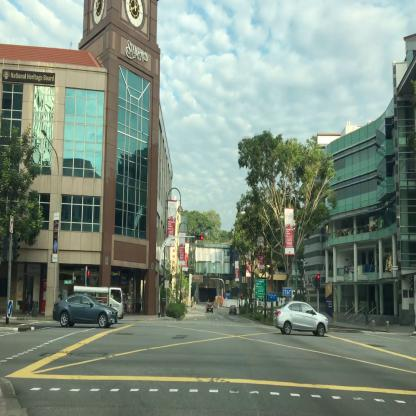red_traffic_light: (316, 273, 320, 288), (195, 235, 203, 240)
